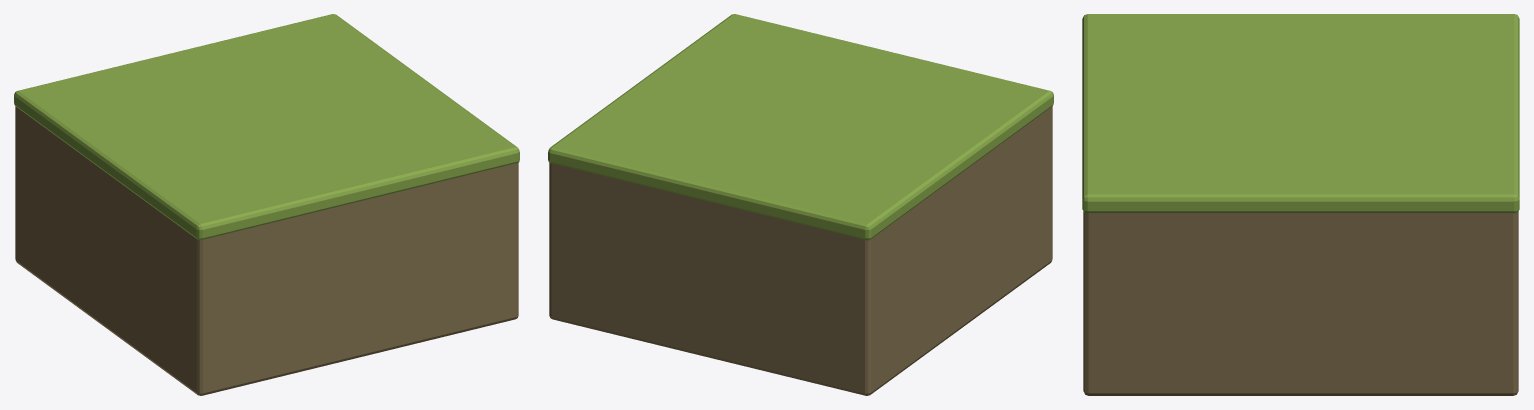
Rendered from SM_Platform_4m_02_A.fbx.
The picture shows the model from 3 angles, left to right: view 1: azimuth 30°, elevation 25°; view 2: azimuth 150°, elevation 25°; view 3: azimuth 270°, elevation 25°; orthographic projection. The views are drawn at different scales.
Visible parts, largest first — view 1: polySurface99; view 2: polySurface99; view 3: polySurface99.
Boxes of the visible parts, x1,y1,x2,y2 form: polySurface99: [14, 14, 519, 395]; polySurface99: [548, 14, 1053, 395]; polySurface99: [1082, 14, 1519, 395].
Size of the model in its own units: 402 by 205 by 402.
